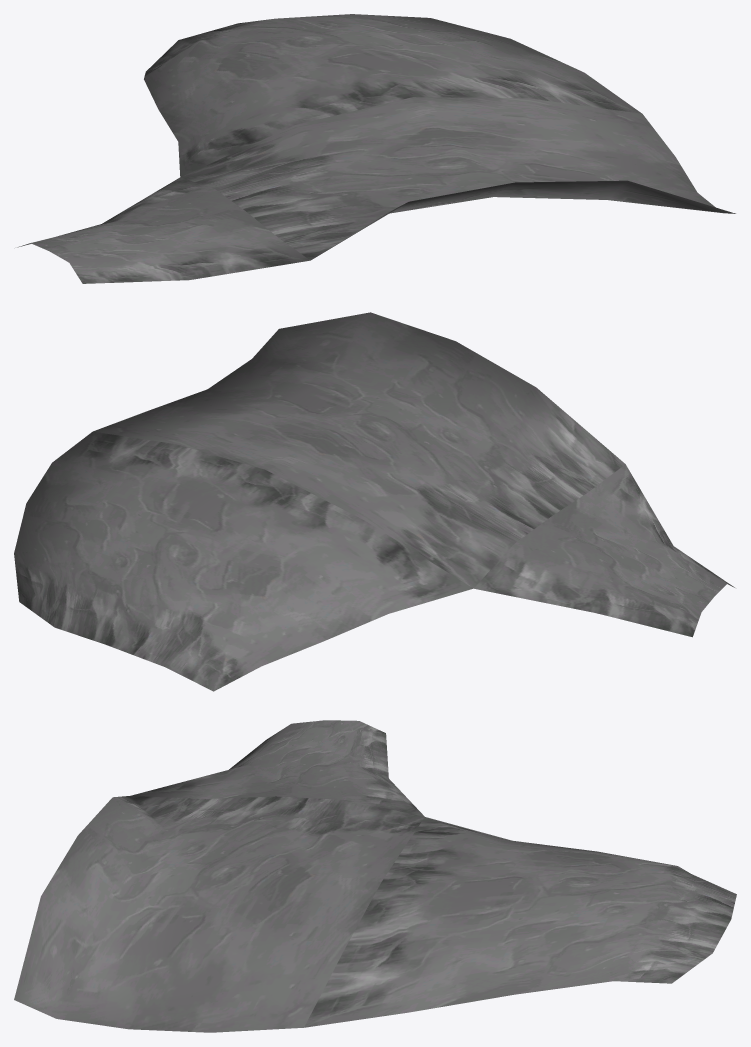
The model's file is SWORDLIGHT20_PS-AREA03_129.obj.
The picture shows the model from 3 angles, top to bottom: view 1: azimuth 30°, elevation 25°; view 2: azimuth 150°, elevation 25°; view 3: azimuth 270°, elevation 25°; orthographic projection. The views are drawn at different scales.
Parts seen in each view (by area): view 1: PS-Area03_129; view 2: PS-Area03_129; view 3: PS-Area03_129.
Boxes of the visible parts, x1,y1,x2,y2 form: PS-Area03_129: (17, 14, 735, 283); PS-Area03_129: (14, 312, 734, 691); PS-Area03_129: (14, 720, 736, 1032).
Size of the model in its own units: 1123 by 160 by 1092.
